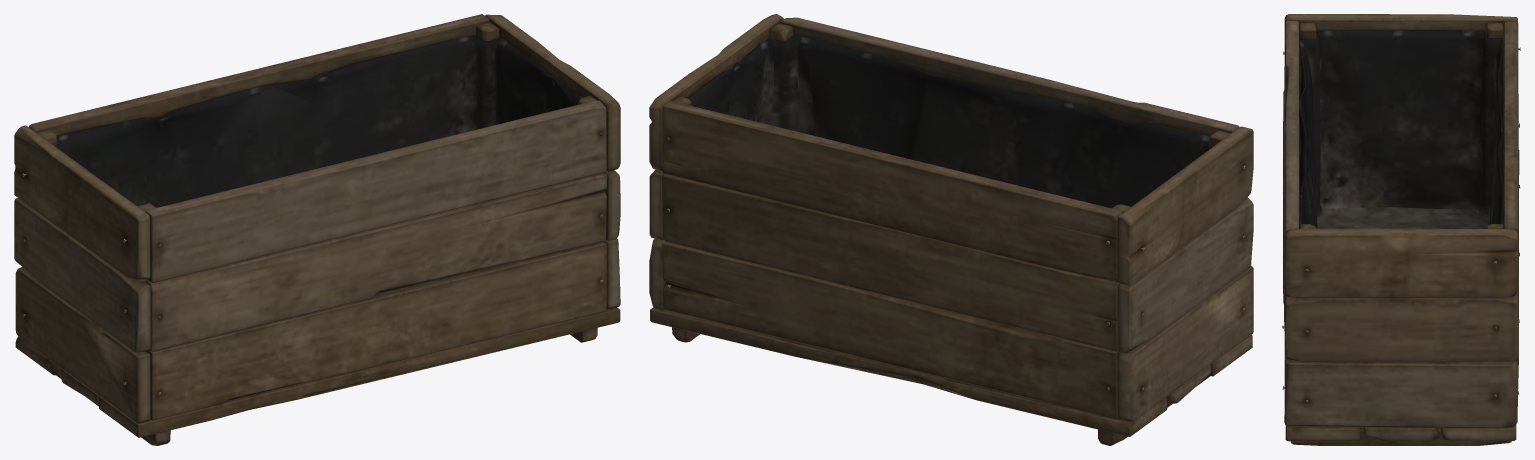
Rendered from planter.glb.
3 renders of one model, left to right at view 1: azimuth 30°, elevation 25°; view 2: azimuth 150°, elevation 25°; view 3: azimuth 270°, elevation 25°, orthographic. The views are drawn at different scales.
Visible parts, largest first — view 1: planter_box_01; view 2: planter_box_01; view 3: planter_box_01.
Boxes of the visible parts, <box> form: planter_box_01: <box>14,14,620,445</box>; planter_box_01: <box>649,14,1253,445</box>; planter_box_01: <box>1282,14,1520,445</box>.
Size of the model in its own units: 0.9126 by 0.4249 by 0.4137.
Materials: 1 (1 with a texture image).
